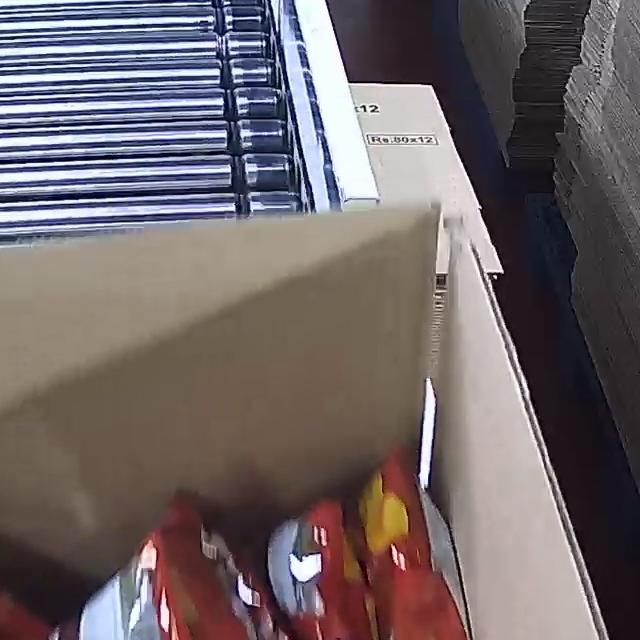masala: (0, 442, 520, 640)
